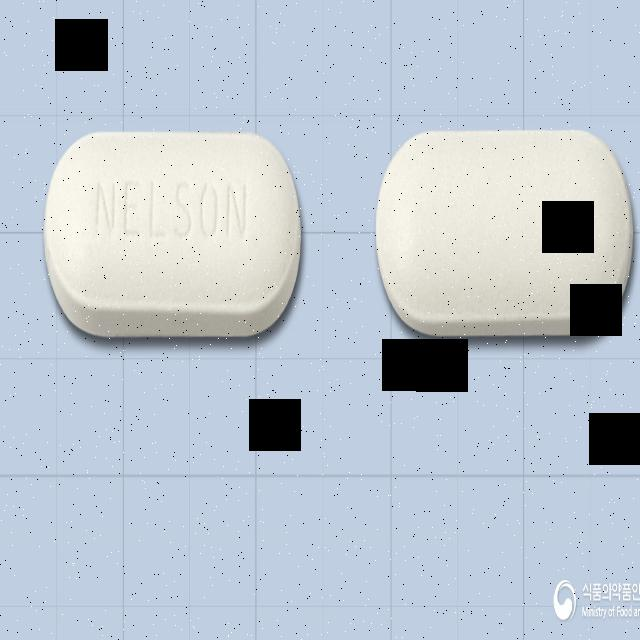Ciproctan: (42, 121, 310, 347)
